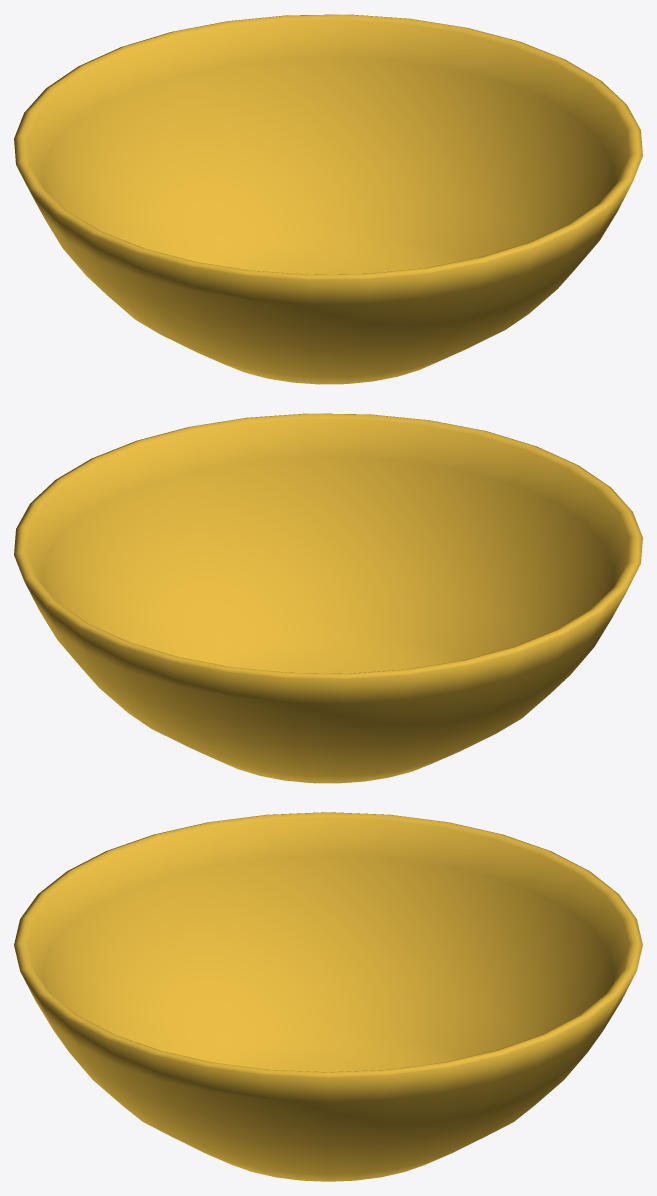
File: Model_Kitchen_Bowl.fbx
3 views of the same model, one above another, from view 1: azimuth 30°, elevation 25°; view 2: azimuth 150°, elevation 25°; view 3: azimuth 270°, elevation 25° (orthographic).
Visible parts, largest first — view 1: Pottery_Bowl_Mesh; view 2: Pottery_Bowl_Mesh; view 3: Pottery_Bowl_Mesh.
Boxes of the visible parts, x1=… form: Pottery_Bowl_Mesh: x1=14, y1=14, x2=642, y2=384; Pottery_Bowl_Mesh: x1=14, y1=413, x2=642, y2=783; Pottery_Bowl_Mesh: x1=14, y1=812, x2=642, y2=1181.
Size of the model in its own units: 31.61 by 10.06 by 31.61.
